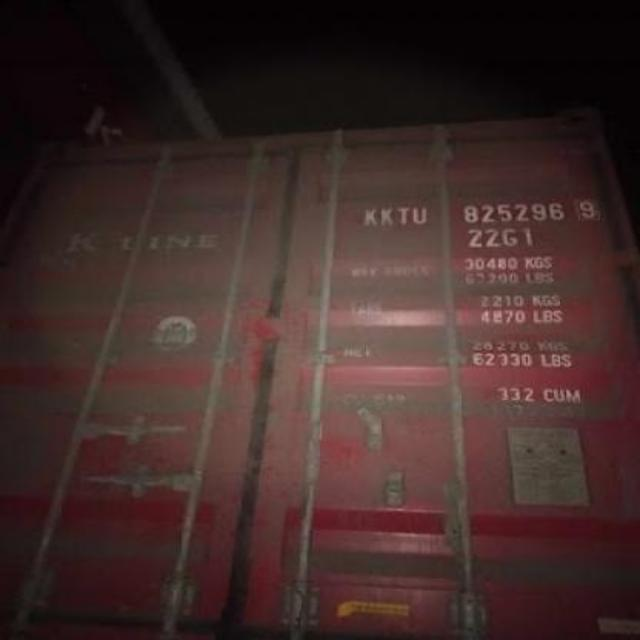2: (512, 196, 530, 224), (476, 198, 494, 224)
5: (496, 196, 514, 220)
6: (550, 194, 568, 230)
8: (458, 193, 478, 223)
9: (576, 194, 598, 222), (532, 197, 548, 226)
K: (362, 199, 378, 231), (378, 201, 394, 231)
T: (394, 196, 410, 232)
U: (410, 202, 428, 228)
